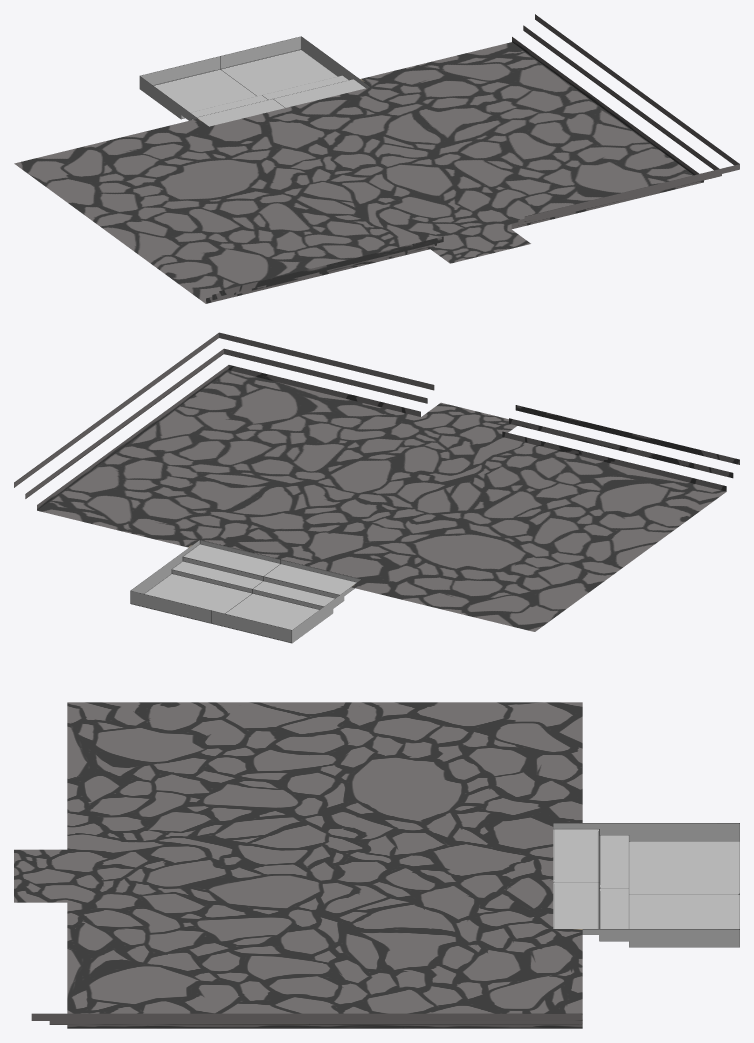
The model's file is EveryoneLovesFacials Floor.fbx.
3 views of the same model, one above another, from view 1: azimuth 30°, elevation 25°; view 2: azimuth 150°, elevation 25°; view 3: azimuth 270°, elevation 25° (orthographic). The views are drawn at different scales.
Visible parts, largest first — view 1: Main Building; view 2: Main Building; view 3: Main Building.
Boxes of the visible parts, x1,y1,x2,y2 form: Main Building: (14, 14, 739, 303); Main Building: (14, 332, 739, 643); Main Building: (14, 702, 739, 1028).
Size of the model in its own units: 2779 by 183 by 2497.
Materials: 2 (2 with a texture image).
